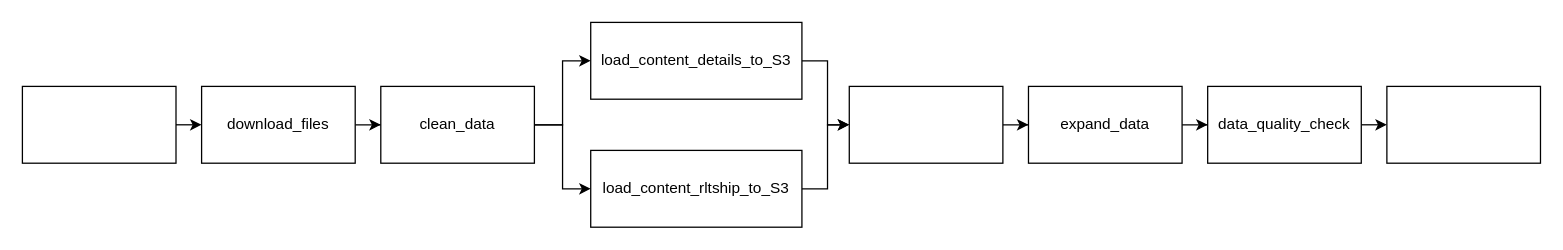
This 1563x250 diagram has some shape labels left out. The box of each missing label's shape, as (x1, y1, x2, y2) in pixels:
calculate_graphs: (1386, 85, 1540, 163)
init: (21, 85, 176, 163)
S3_to_redshift: (848, 85, 1003, 163)
